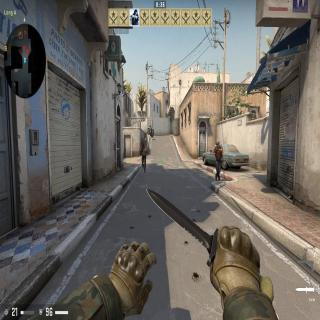T-Body: (213, 140, 224, 182), (140, 142, 148, 173), (148, 125, 154, 138)
T-Head: (216, 140, 220, 148), (142, 142, 144, 147), (149, 125, 151, 127)
